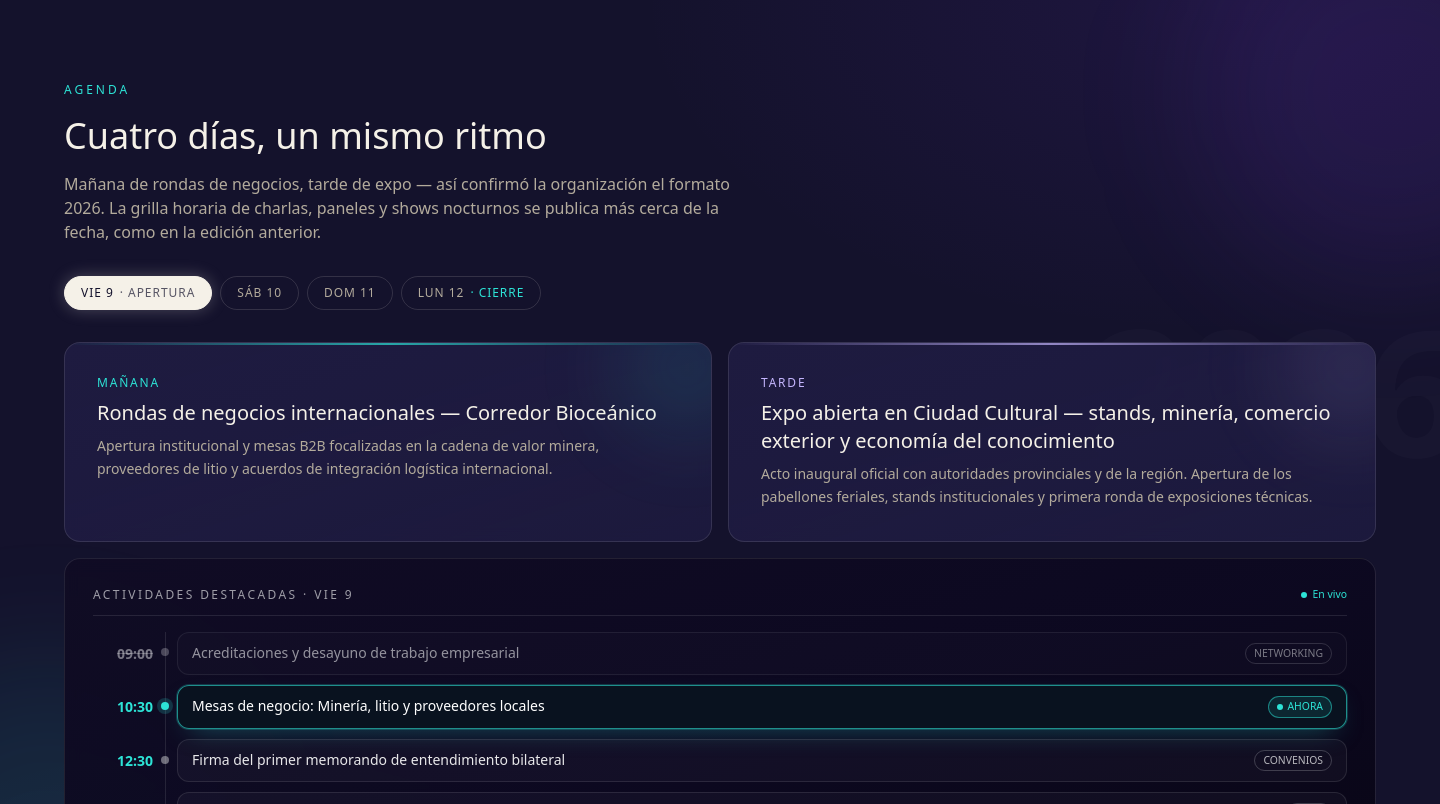
ProgramSection › no ofrece desplegar en los días que entran completos
Click the tab "Sáb 10" at [260, 293], box [220,276,299,310]
(page scrolled)
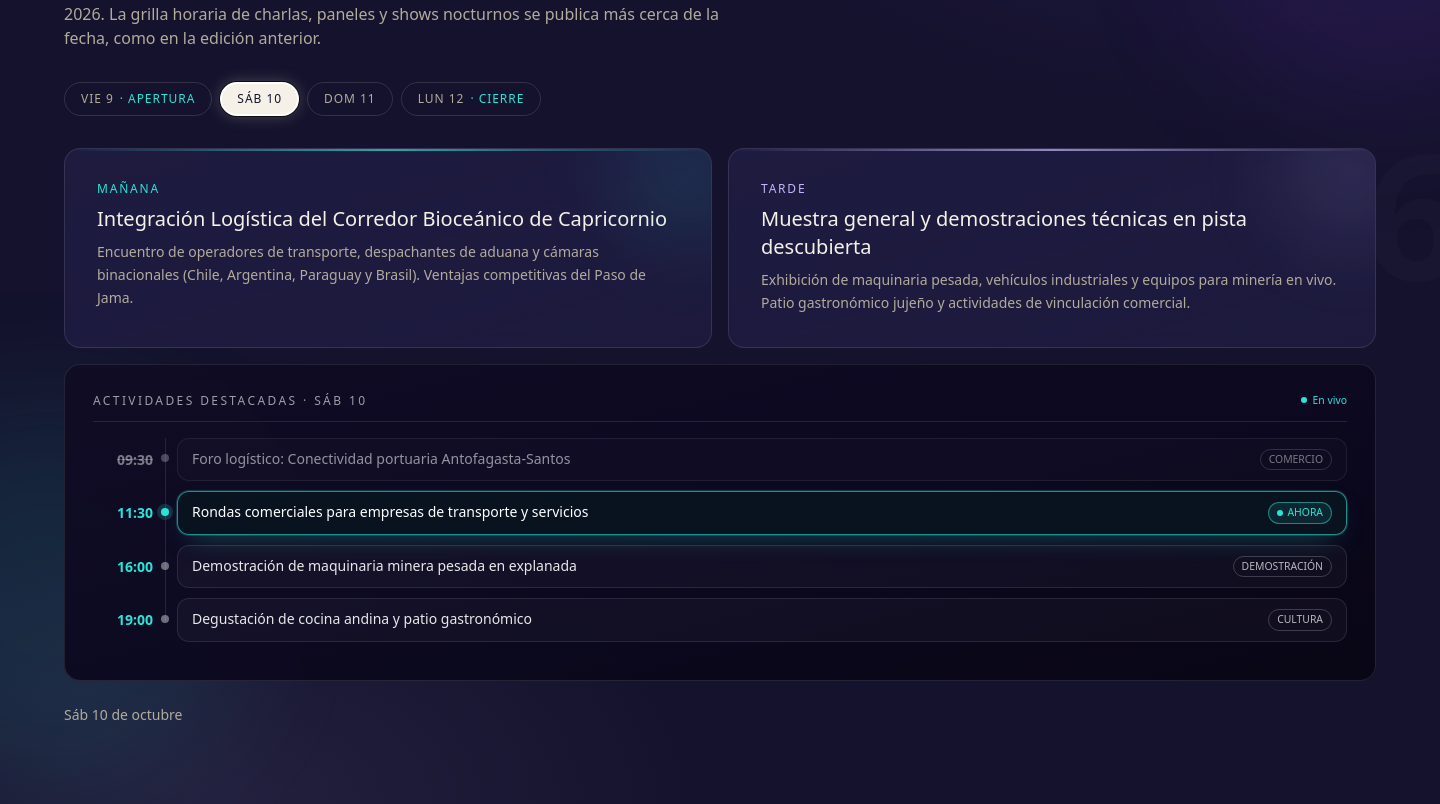
Expected: the text "Foro logístico: Conectividad portuaria Antofagasta-Santos" is shown, [192,448,570,468]
Expected: the text "Rondas comerciales para empresas de transporte y servicios" is shown, [192,502,588,521]
Expected: the text "Demostración de maquinaria minera pesada en explanada" is shown, [192,556,577,575]
